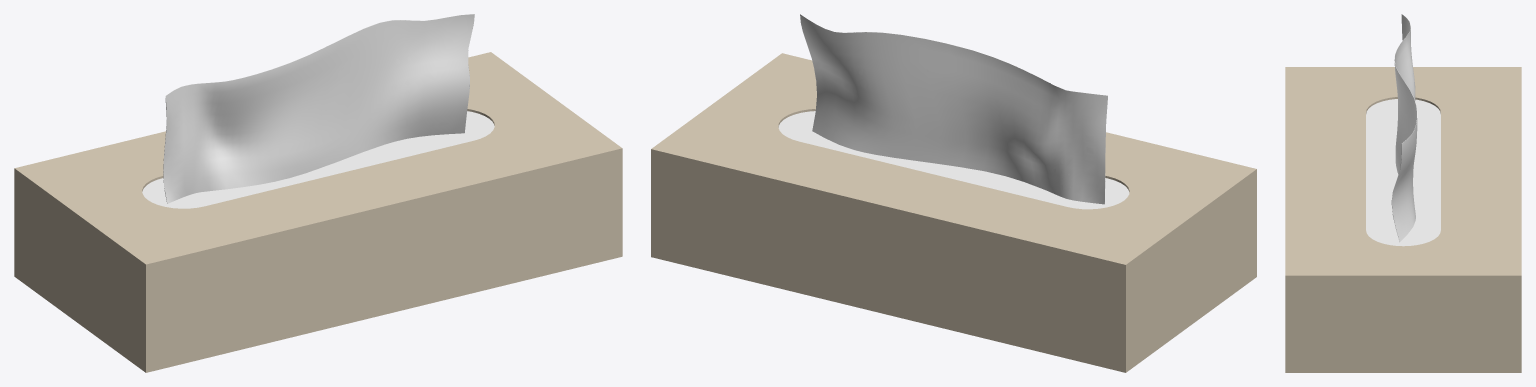
The model's file is ティッシュ箱.fbx.
The picture shows the model from 3 angles, left to right: view 1: azimuth 30°, elevation 25°; view 2: azimuth 150°, elevation 25°; view 3: azimuth 270°, elevation 25°; orthographic projection. The views are drawn at different scales.
Visible parts, largest first — view 1: Body; view 2: Body; view 3: Body.
Boxes of the visible parts, left/top/right/bottom form: Body: left=14, top=14, right=622, bottom=372; Body: left=651, top=14, right=1256, bottom=372; Body: left=1285, top=14, right=1521, bottom=372.
Bounding box in the file's own units: 23 × 10.32 × 11.
